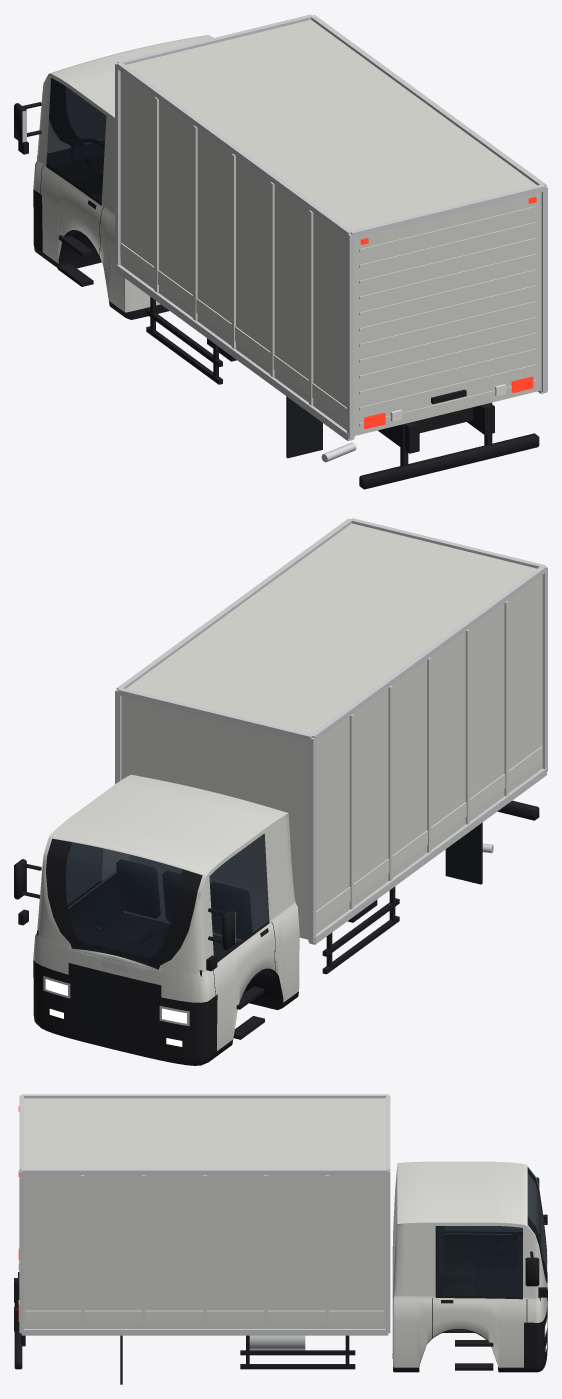
File: truck_body.glb
The picture shows the model from 3 angles, top to bottom: view 1: azimuth 30°, elevation 25°; view 2: azimuth 150°, elevation 25°; view 3: azimuth 270°, elevation 25°; orthographic projection. The views are drawn at different scales.
Parts seen in each view (by area): view 1: TruckBody, RearBumper, FrontBumper; view 2: TruckBody, FrontBumper; view 3: TruckBody, FrontBumper, RearBumper.
Part boxes in pixels (bbox=[...]): TruckBody: bbox=[14, 14, 547, 462]; RearBumper: bbox=[359, 402, 539, 489]; FrontBumper: bbox=[33, 175, 102, 257]; TruckBody: bbox=[14, 518, 547, 1056]; FrontBumper: bbox=[33, 960, 217, 1065]; TruckBody: bbox=[14, 1094, 547, 1384]; FrontBumper: bbox=[524, 1261, 547, 1372]; RearBumper: bbox=[14, 1302, 25, 1369].
Bounding box in the file's own units: 2.55 × 3.09 × 6.96.
